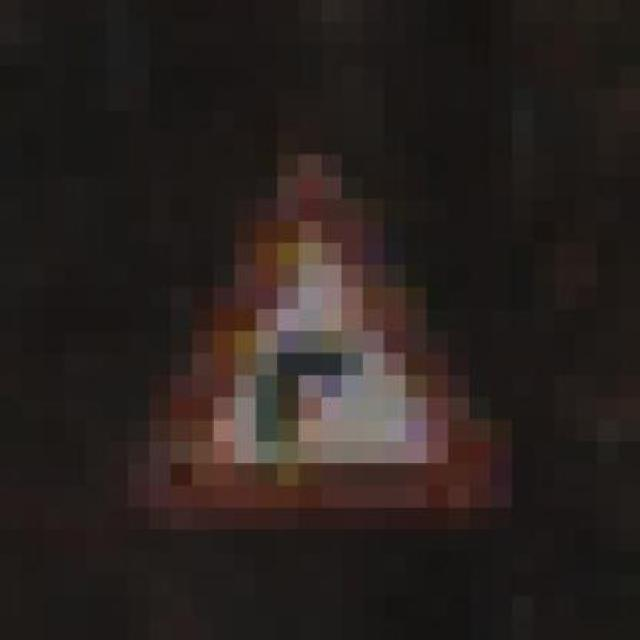Dangerous Rright Curve Ahead: (106, 110, 512, 552)
